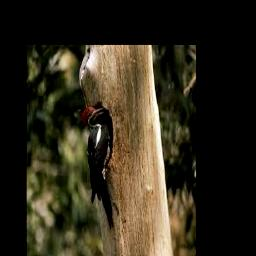Woodpecker: (82, 106, 114, 229)
